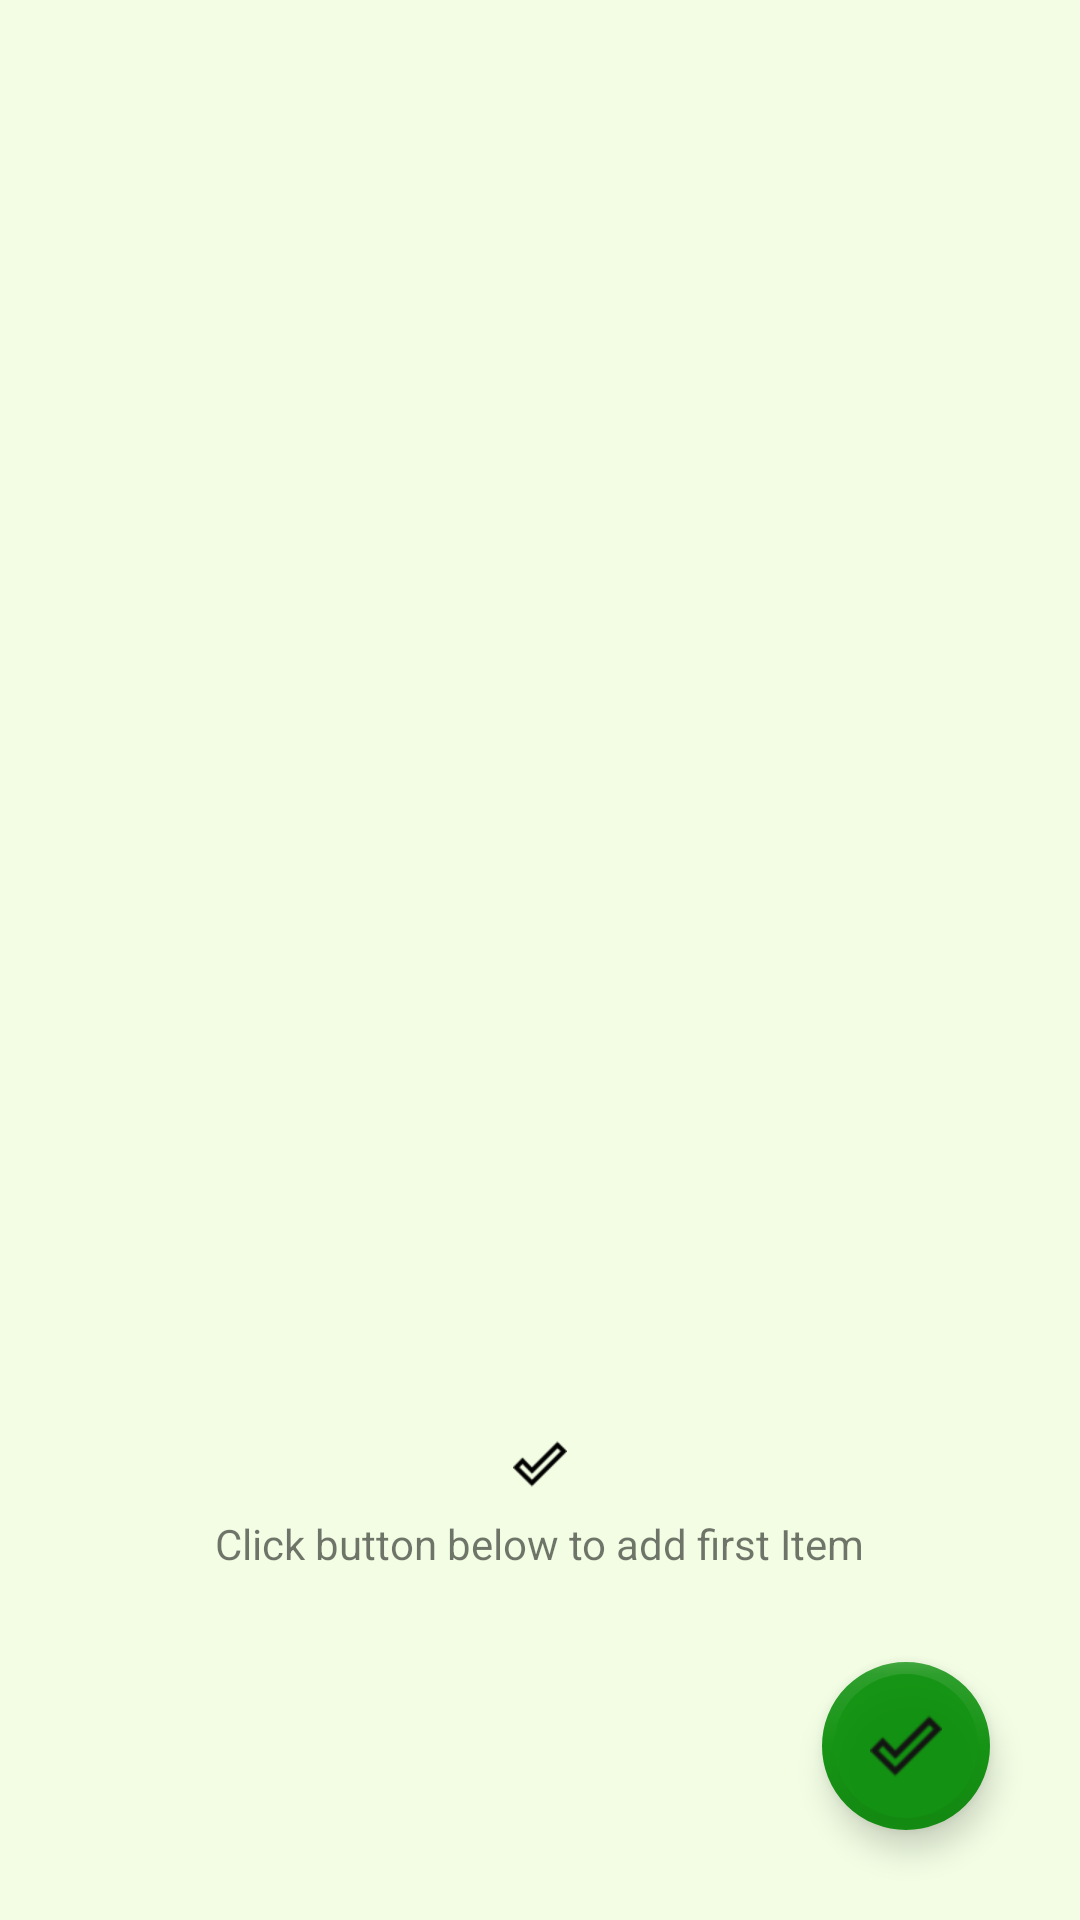

Named icons in this screenshot (1080px×1920px) and their bounding boxes, (x1, y1, x2, y2):
task: (513, 1441, 567, 1487), (822, 1662, 990, 1830)
